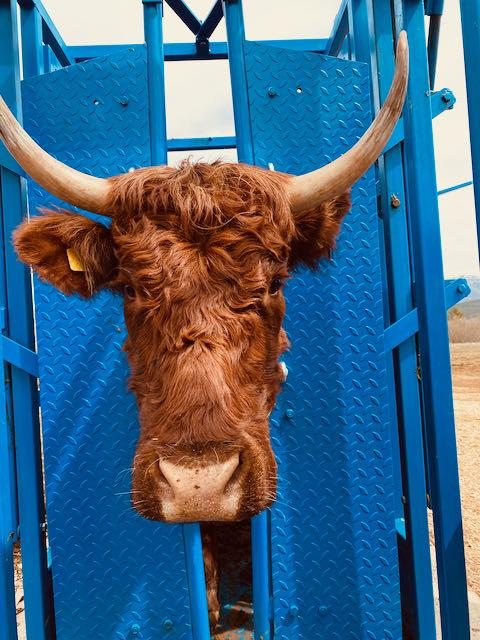muzzles: (122, 455, 275, 528)
